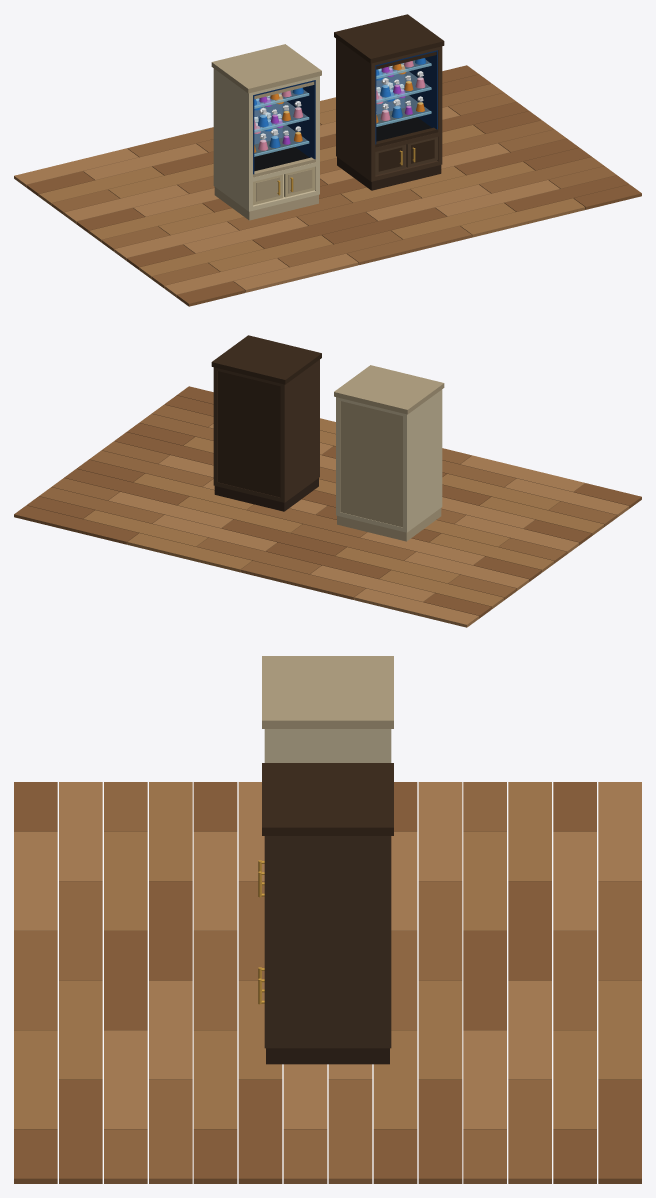
File: cabinet.glb
3 views of the same model, one above another, from view 1: azimuth 30°, elevation 25°; view 2: azimuth 150°, elevation 25°; view 3: azimuth 270°, elevation 25° (orthographic). The views are drawn at different scales.
Parts seen in each view (by area): view 1: panel_left (×2), cap (×2), niche_right (×2), plinth (×2), niche_floor (×2), floor_plank_13_3, floor_plank_13_1, floor_plank_13_2, floor_plank_4_0, floor_plank_12_0, floor_plank_0_0, floor_plank_10_0 (+51 smaller); view 2: panel_back (×2), panel_left (×2), cap (×2), plinth (×2), floor_plank_0_0, floor_plank_0_1, floor_plank_0_3, floor_plank_0_2, floor_plank_2_0, floor_plank_6_0, floor_plank_8_0, floor_plank_4_0 (+45 smaller); view 3: panel_right (×2), cap (×2), floor_plank_4_3, floor_plank_6_3, floor_plank_8_3, floor_plank_0_3, floor_plank_2_3, floor_plank_10_3, floor_plank_12_3, floor_plank_4_1, floor_plank_9_3, floor_plank_4_0 (+48 smaller).
Boxes of the visible parts, x1,y1,x2,y2 form: panel_left (×2): (213,39,375,211); cap (×2): (211,14,444,93); niche_right (×2): (282,51,437,159); plinth (×2): (214,157,441,220); niche_floor (×2): (254,108,431,171); floor_plank_13_3: (460,198,585,237); floor_plank_13_1: (233,253,358,292); floor_plank_13_2: (347,226,471,264); floor_plank_4_0: (64,185,188,224); floor_plank_12_0: (164,258,289,297); floor_plank_0_0: (14,148,138,187); floor_plank_10_0: (139,240,263,278); panel_back (×2): (218,371,402,527); panel_left (×2): (280,360,442,532); cap (×2): (211,335,444,414); plinth (×2): (214,478,441,541); floor_plank_0_0: (354,588,479,627); floor_plank_0_1: (240,561,365,599); floor_plank_0_3: (14,505,138,544); floor_plank_0_2: (127,533,251,572); floor_plank_2_0: (379,570,504,608); floor_plank_6_0: (429,533,554,572); floor_plank_8_0: (454,515,579,554); floor_plank_4_0: (404,552,529,590); panel_right (×2): (264,734,391,1048); cap (×2): (262,656,393,835); floor_plank_4_3: (418,1080,462,1183); floor_plank_6_3: (328,1080,372,1183); floor_plank_8_3: (238,1080,282,1183); floor_plank_0_3: (598,1080,641,1183); floor_plank_2_3: (508,1080,551,1183); floor_plank_10_3: (149,1080,192,1183); floor_plank_12_3: (59,1080,102,1183); floor_plank_4_1: (418,881,462,980); floor_plank_9_3: (193,1030,237,1129); floor_plank_4_0: (418,782,462,881).
Bounding box in the file's own units: 4.59 × 1.32 × 3.07.
